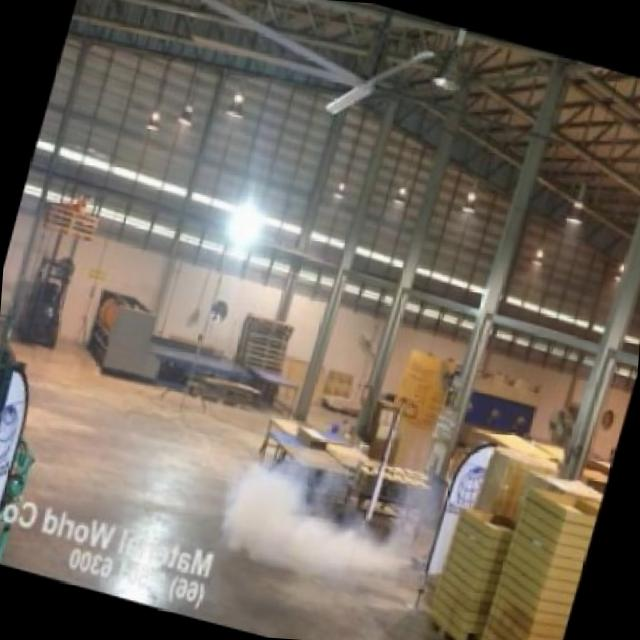smoke: (203, 398, 464, 612)
